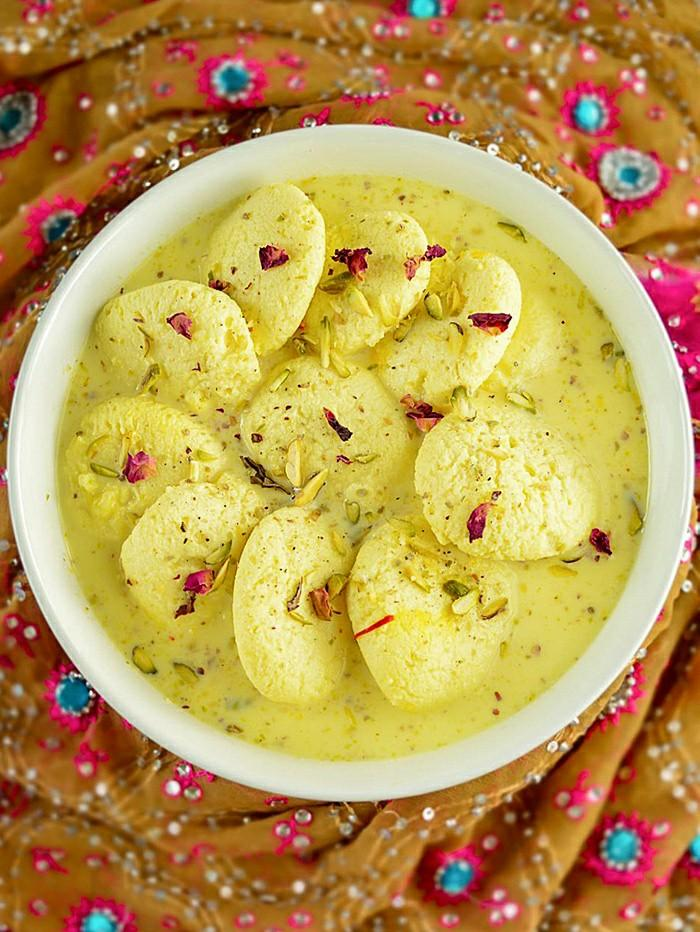RasMalai: (51, 174, 649, 761)
